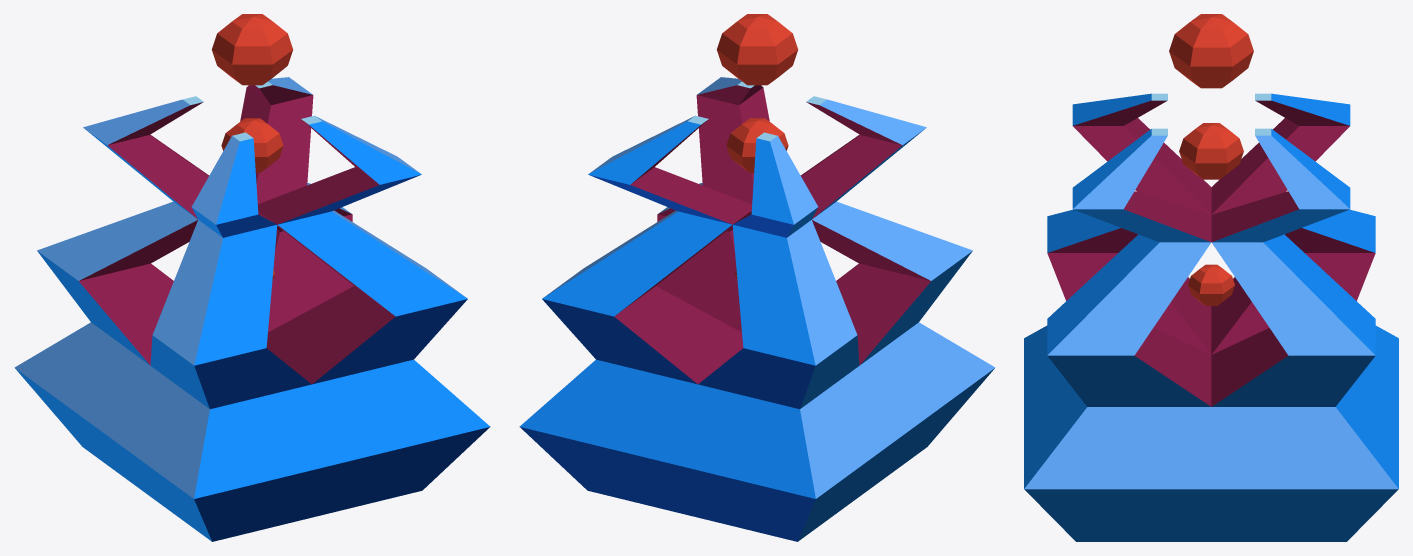
Rendered from Recall.fbx.
The picture shows the model from 3 angles, left to right: view 1: azimuth 30°, elevation 25°; view 2: azimuth 150°, elevation 25°; view 3: azimuth 270°, elevation 25°; orthographic projection. The views are drawn at different scales.
Visible parts, largest first — view 1: Cube, Sphere.002, Sphere; view 2: Cube, Sphere.002, Sphere; view 3: Cube, Sphere.002, Sphere, Sphere.001.
Part boxes in pixels (x1,y1,x2,y2): Cube: (14, 77, 490, 541); Sphere.002: (211, 14, 293, 85); Sphere: (221, 118, 283, 172); Cube: (519, 77, 995, 541); Sphere.002: (716, 14, 798, 85); Sphere: (726, 118, 788, 172); Cube: (1024, 93, 1398, 541); Sphere.002: (1169, 14, 1253, 88); Sphere: (1179, 123, 1243, 179); Sphere.001: (1188, 264, 1234, 305).
Size of the model in its own units: 408 by 594 by 428.
